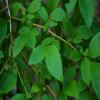Blueberry leaf: (44, 45, 64, 83), (27, 43, 49, 67), (0, 71, 18, 96), (12, 32, 28, 59), (73, 24, 97, 41), (61, 78, 80, 99), (89, 61, 99, 98), (80, 54, 91, 87), (61, 14, 74, 40), (88, 32, 100, 59), (48, 9, 68, 22), (37, 6, 48, 24), (27, 29, 36, 50), (69, 48, 83, 61), (47, 20, 58, 29), (43, 24, 48, 33), (80, 47, 84, 54)
